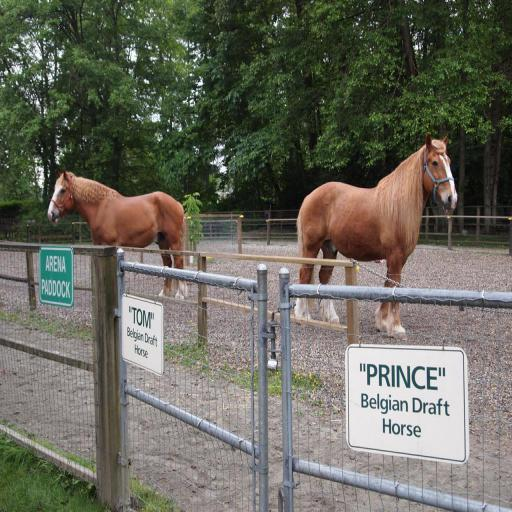horse: (294, 130, 458, 344), (48, 166, 186, 302)
